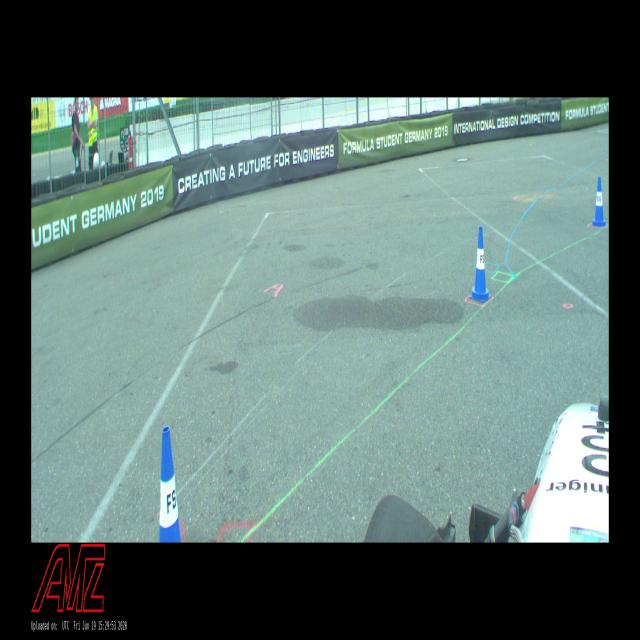blue_cone: (157, 427, 181, 542), (470, 226, 491, 302), (591, 176, 607, 228)
